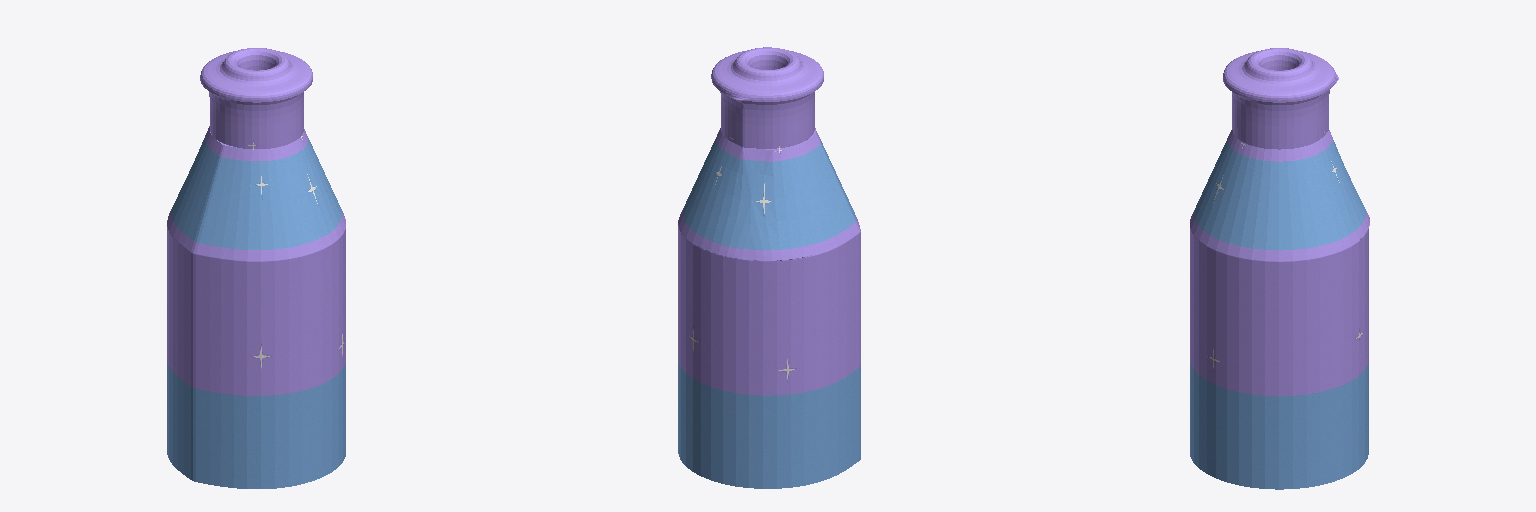
3 renders of one model, left to right at view 1: azimuth 30°, elevation 25°; view 2: azimuth 150°, elevation 25°; view 3: azimuth 270°, elevation 25°, orthographic.
Parts seen in each view (by area): view 1: Botella:GrupoMesa; view 2: Botella:GrupoMesa; view 3: Botella:GrupoMesa.
Boxes of the visible parts, <box> form: Botella:GrupoMesa: <box>167,48,345,488</box>; Botella:GrupoMesa: <box>678,47,860,488</box>; Botella:GrupoMesa: <box>1190,48,1369,489</box>.
Bounding box in the file's own units: 0.7039 × 1.69 × 0.7049.
Materials: 3 (2 with a texture image).